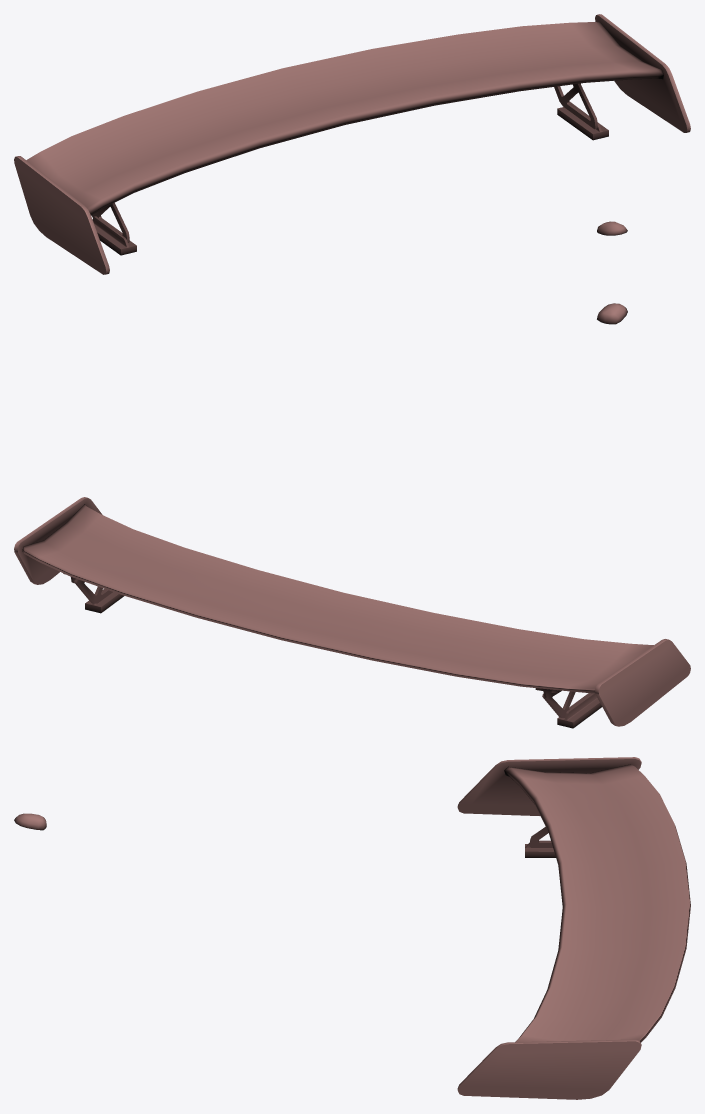
File: Mustang16_Spoiler_GT_Trim.fbx
3 renders of one model, top to bottom at view 1: azimuth 30°, elevation 25°; view 2: azimuth 150°, elevation 25°; view 3: azimuth 270°, elevation 25°, orthographic.
Parts seen in each view (by area): view 1: Mustang16_Spoiler_GT_Trim; view 2: Mustang16_Spoiler_GT_Trim; view 3: Mustang16_Spoiler_GT_Trim.
Boxes of the visible parts, x1=… form: Mustang16_Spoiler_GT_Trim: x1=14, y1=14, x2=690, y2=274; Mustang16_Spoiler_GT_Trim: x1=14, y1=303, x2=690, y2=728; Mustang16_Spoiler_GT_Trim: x1=14, y1=757, x2=690, y2=1099.
Size of the model in its own units: 157 by 39.65 by 158.
